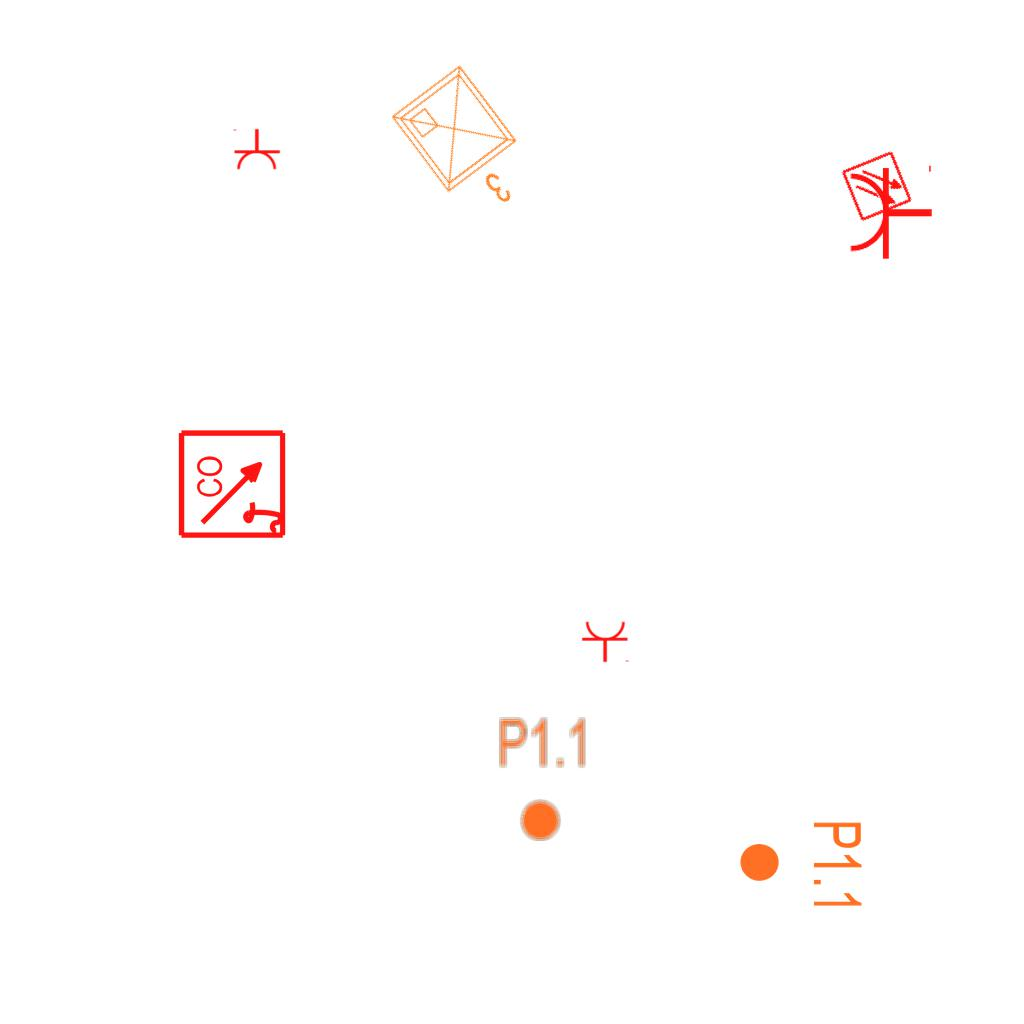Downlight_LED_Einbauleuchten_Flur: (737, 819, 865, 912), (497, 715, 590, 843)
Einbaudownlights_LED_Konferenzraeume: (381, 52, 555, 236)
RMO_Rauchmelder_optischer: (840, 149, 914, 223)
ROA_Rauchmelder_optisch_mit_Signalgeber_(Sockelsirene): (177, 427, 290, 540)
Schukosteckdose_einfach: (847, 161, 934, 261), (581, 620, 631, 663), (231, 128, 281, 171)
